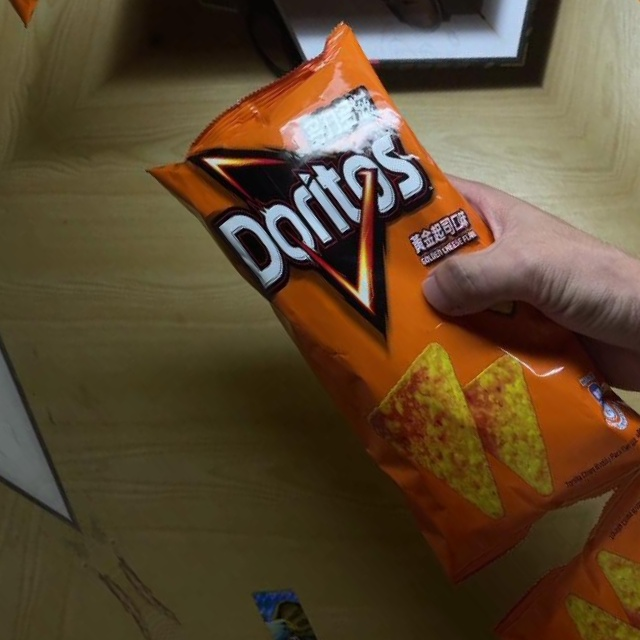Doritos: (115, 7, 640, 613)
